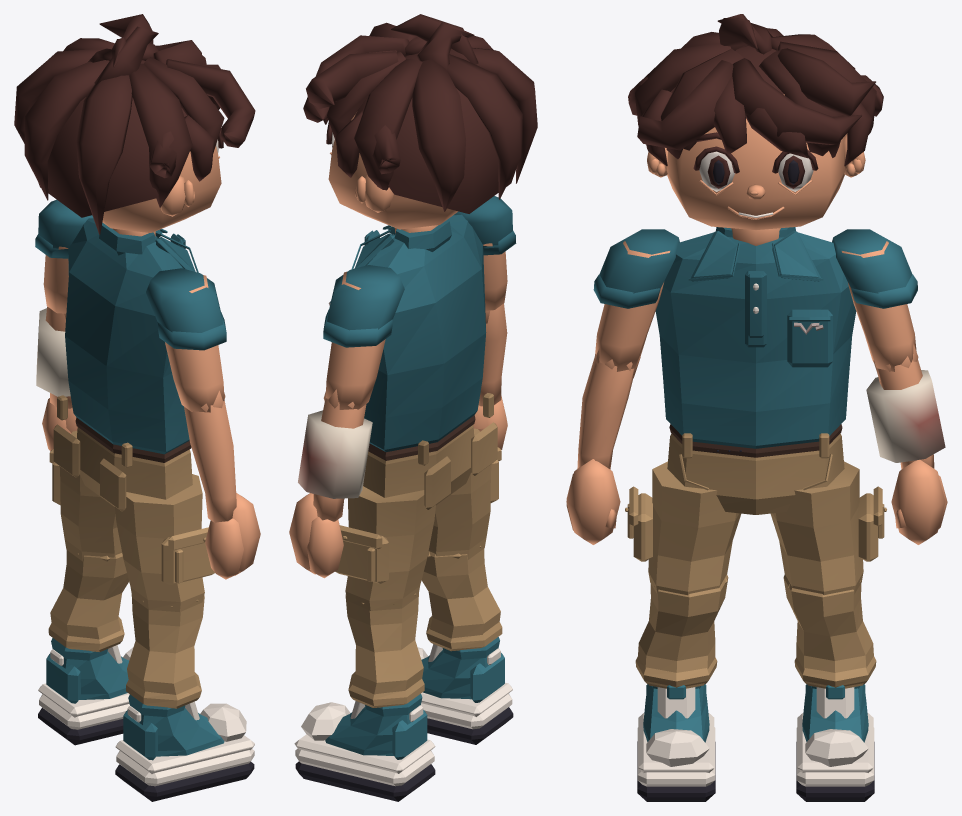
The picture shows the model from 3 angles, left to right: view 1: azimuth 30°, elevation 25°; view 2: azimuth 150°, elevation 25°; view 3: azimuth 270°, elevation 25°; orthographic projection. The views are drawn at different scales.
Visible parts, largest first — view 1: head_pal_hairChestnut, torso_pal_polo, legR_pal_khaki, shinR_pal_khaki, hip_pal_khaki, shinL_pal_khaki, footR_pal_picketWhite, armR_pal_polo, foreArmR_pal_skinWarm, legL_pal_khaki, head_pal_skinWarm, footR_pal_polo (+12 smaller); view 2: head_pal_hairChestnut, torso_pal_polo, legL_pal_khaki, shinL_pal_khaki, hip_pal_khaki, shinR_pal_khaki, footL_pal_picketWhite, armL_pal_polo, foreArmL_pal_picketWhite, legR_pal_khaki, head_pal_skinWarm, footL_pal_polo (+12 smaller); view 3: torso_pal_polo, head_pal_hairChestnut, head_pal_skinWarm, legL_pal_khaki, legR_pal_khaki, hip_pal_khaki, shinR_pal_khaki, shinL_pal_khaki, footR_pal_picketWhite, footL_pal_picketWhite, foreArmL_pal_picketWhite, armL_pal_polo (+13 smaller).
Boxes of the visible parts, x1,y1,x2,y2 form: head_pal_hairChestnut: (14,14,255,234); torso_pal_polo: (65,218,198,454); legR_pal_khaki: (114,474,214,612); shinR_pal_khaki: (126,595,204,708); hip_pal_khaki: (53,395,192,511); shinL_pal_khaki: (48,550,128,651); footR_pal_picketWhite: (115,701,254,786); armR_pal_polo: (146,268,226,350); foreArmR_pal_skinWarm: (184,390,236,523); legL_pal_khaki: (49,431,121,561); head_pal_skinWarm: (102,146,221,236); footR_pal_polo: (123,694,224,760); head_pal_hairChestnut: (303,14,537,213); torso_pal_polo: (330,214,486,452); legL_pal_khaki: (335,486,435,610); shinL_pal_khaki: (345,593,424,707); hip_pal_khaki: (363,393,497,509); shinR_pal_khaki: (421,546,502,651); footL_pal_picketWhite: (294,701,435,786); armL_pal_polo: (323,265,404,347); foreArmL_pal_picketWhite: (298,410,372,498); legR_pal_khaki: (428,428,501,559); head_pal_skinWarm: (328,112,457,233); footL_pal_polo: (325,693,427,759); torso_pal_polo: (655,227,856,448); head_pal_hairChestnut: (628,14,883,188); head_pal_skinWarm: (647,94,865,245); legL_pal_khaki: (770,461,886,595); legR_pal_khaki: (625,461,740,595); hip_pal_khaki: (667,433,844,514); shinR_pal_khaki: (635,574,728,688); shinL_pal_khaki: (783,574,876,688); footR_pal_picketWhite: (637,687,715,786); footL_pal_picketWhite: (796,687,874,786); foreArmL_pal_picketWhite: (866,370,945,462); armL_pal_polo: (832,229,917,308).
Bounding box in the file's own units: 0.4916 × 1.81 × 0.8318.
